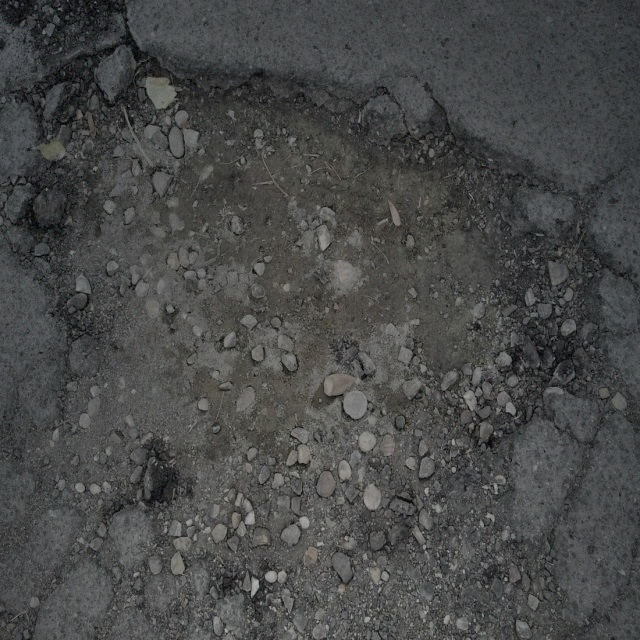pothole: (40, 27, 608, 546)
